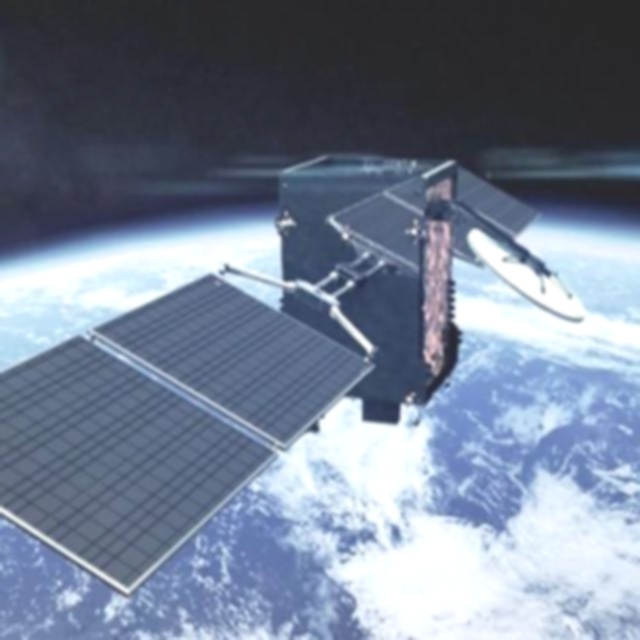medium_debris: (0, 142, 590, 604)
